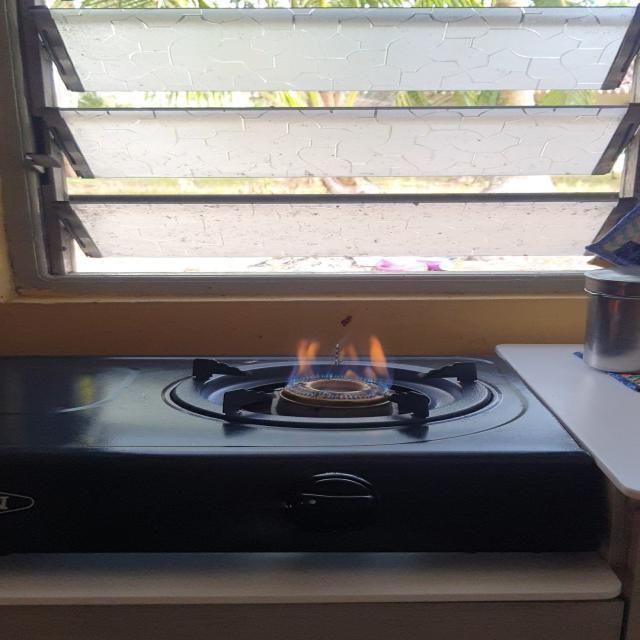smoke: (286, 332, 400, 404)
